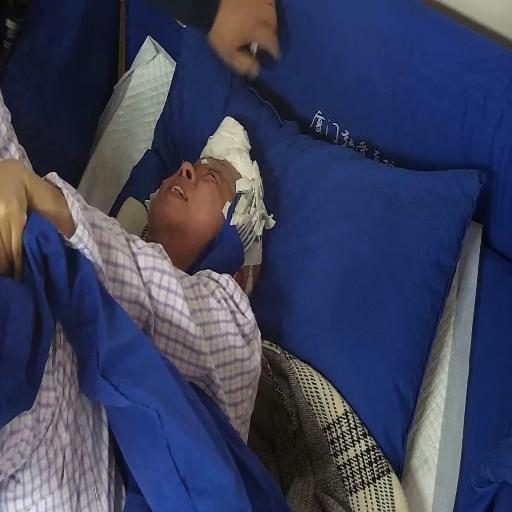Seizure: (153, 119, 244, 272)
